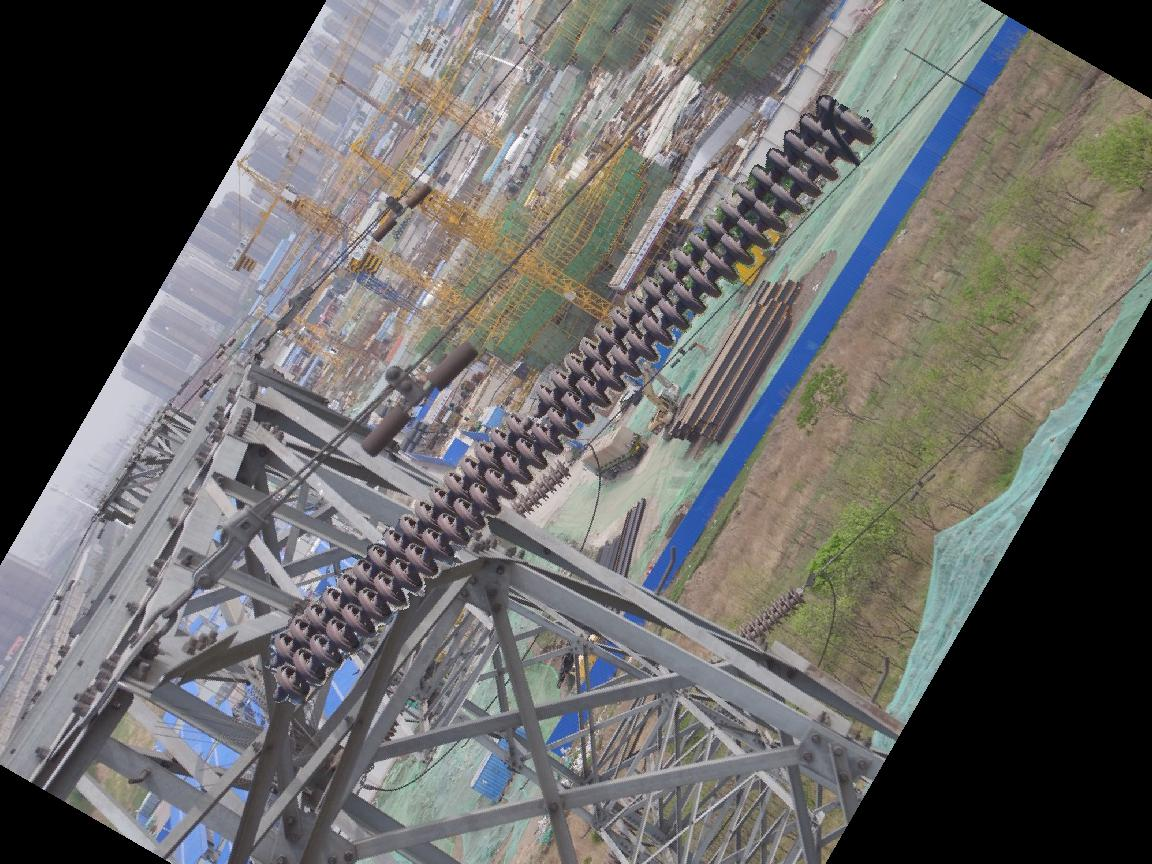insulator: (263, 91, 881, 703), (735, 581, 809, 644), (506, 456, 576, 520)
insulator_stringdrop: (503, 378, 563, 440)
